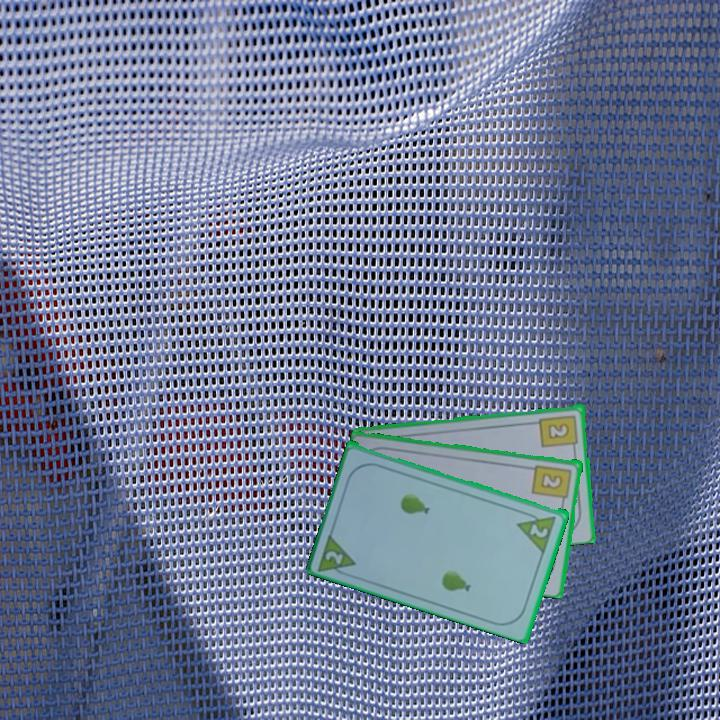2b: (529, 461, 575, 507), (536, 411, 581, 453)
2p: (315, 528, 359, 580), (526, 520, 551, 541)
